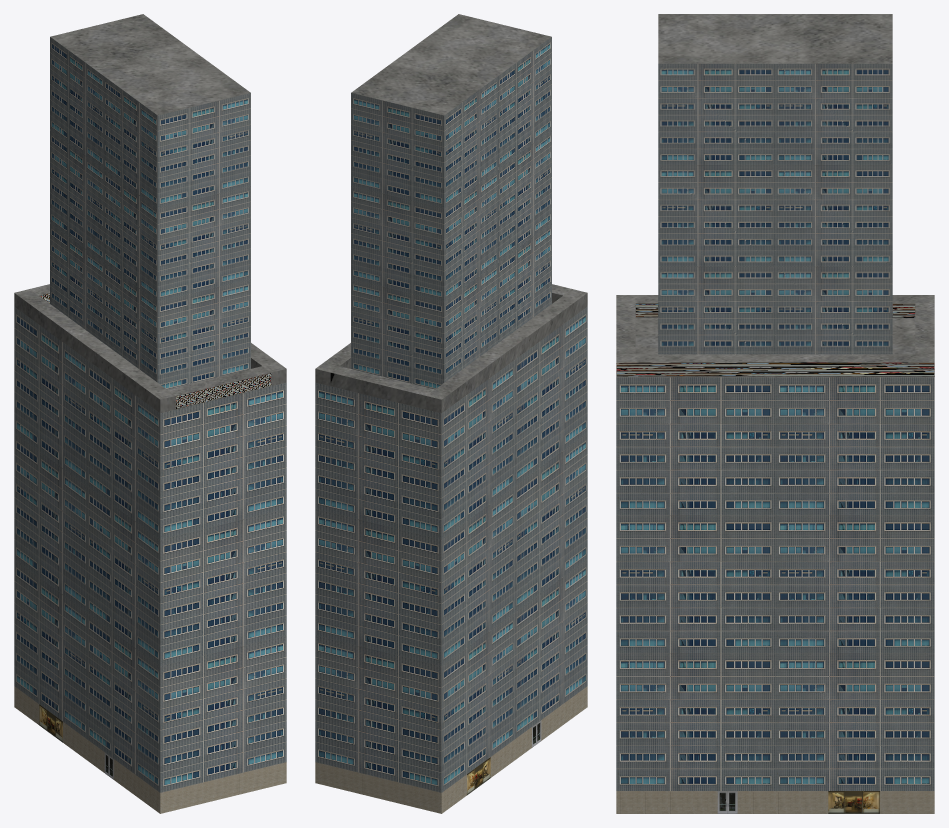
Rendered from Building070.fbx.
The picture shows the model from 3 angles, left to right: view 1: azimuth 30°, elevation 25°; view 2: azimuth 150°, elevation 25°; view 3: azimuth 270°, elevation 25°; orthographic projection. The views are drawn at different scales.
Visible parts, largest first — view 1: Building070; view 2: Building070; view 3: Building070.
Boxes of the visible parts, bbox=[...] form: Building070: bbox=[14, 14, 286, 813]; Building070: bbox=[315, 14, 587, 813]; Building070: bbox=[616, 14, 934, 813].
Size of the model in its own units: 15.79 by 81.14 by 31.58.
